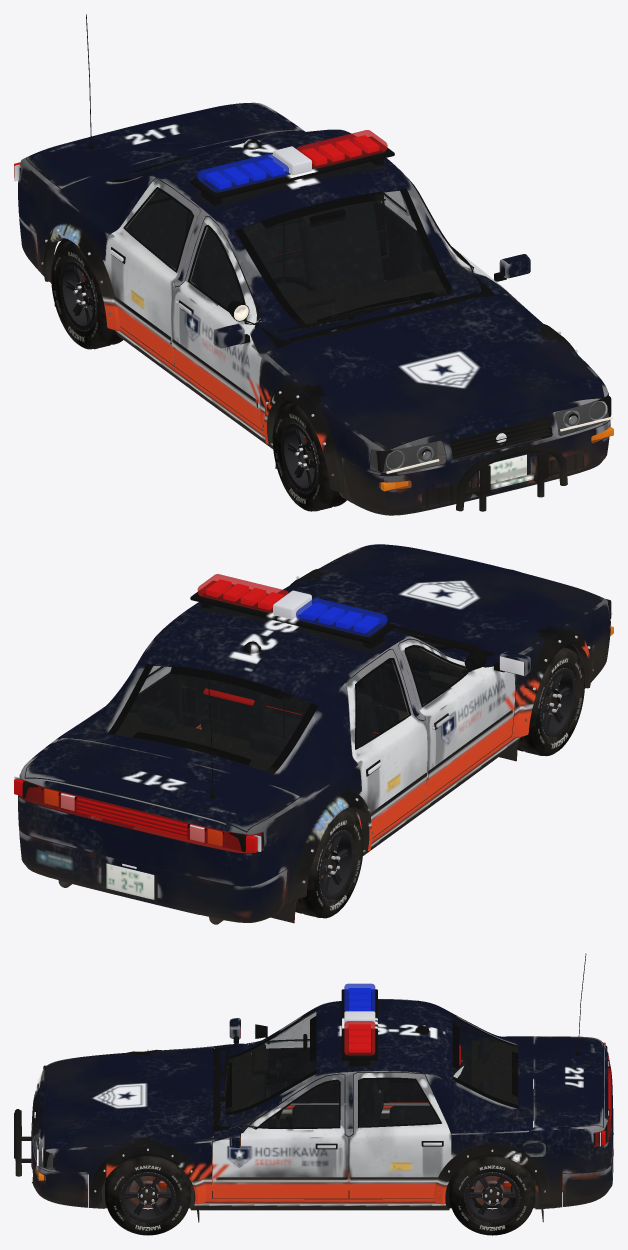
Rendered from tsubame.glb.
3 views of the same model, one above another, from view 1: azimuth 30°, elevation 25°; view 2: azimuth 150°, elevation 25°; view 3: azimuth 270°, elevation 25° (orthographic). The views are drawn at different scales.
Visible parts, largest first — view 1: Body, Hood, Glass_Windshield, Bumper_F, Trunk, Door_FR, Door_RR, Wheel_FR, Wheel_RR, Glass_Door_RR, Door_RL, Glass_Door_FR (+5 smaller); view 2: Body, Hood, Trunk, Glass_RearWindow, Bumper_R, Door_FR, Door_RR, Wheel_RR, Wheel_FR, Lens_Tail_C, Glass_Door_RR, Glass_Door_FR (+7 smaller); view 3: Body, Hood, Door_FL, Door_RL, Trunk, Wheel_FL, Wheel_RL, Glass_Windshield, Glass_RearWindow, Glass_Door_RL, Bumper_F, Door_FR (+5 smaller).
Part boxes in pixels (x1,y1,x2,y2): Body: (14,14,611,502); Hood: (266,294,603,450); Glass_Windshield: (242,190,447,327); Bumper_F: (342,417,610,515); Trunk: (26,102,299,189); Door_FR: (171,216,274,430); Door_RR: (103,178,200,365); Wheel_FR: (272,402,346,511); Wheel_RR: (51,241,122,349); Glass_Door_RR: (126,189,191,269); Door_RL: (373,191,417,280); Glass_Door_FR: (190,227,242,308); Body: (14,544,611,924); Hood: (281,544,603,656); Trunk: (25,738,299,831); Glass_RearWindow: (115,665,310,771); Bumper_R: (19,828,287,922); Door_FR: (398,639,515,799); Door_RR: (345,649,427,837); Wheel_RR: (295,810,363,918); Wheel_FR: (517,647,584,756); Lens_Tail_C: (20,778,263,853); Glass_Door_RR: (357,660,408,746); Glass_Door_FR: (406,647,466,704); Body: (32,953,613,1222); Hood: (45,1046,213,1149); Door_FL: (212,1074,349,1198); Door_RL: (349,1072,455,1198); Trunk: (533,1036,603,1127); Wheel_FL: (105,1156,191,1235); Wheel_RL: (449,1156,535,1235); Glass_Windshield: (226,1011,315,1112); Glass_RearWindow: (453,1017,517,1104); Glass_Door_RL: (359,1079,440,1126); Bumper_F: (14,1097,87,1207); Door_FR: (214,1011,345,1104).
Size of what is drawn, in the model's own units: 2.16 by 1.79 by 4.62.
2 materials, 2 textured.
